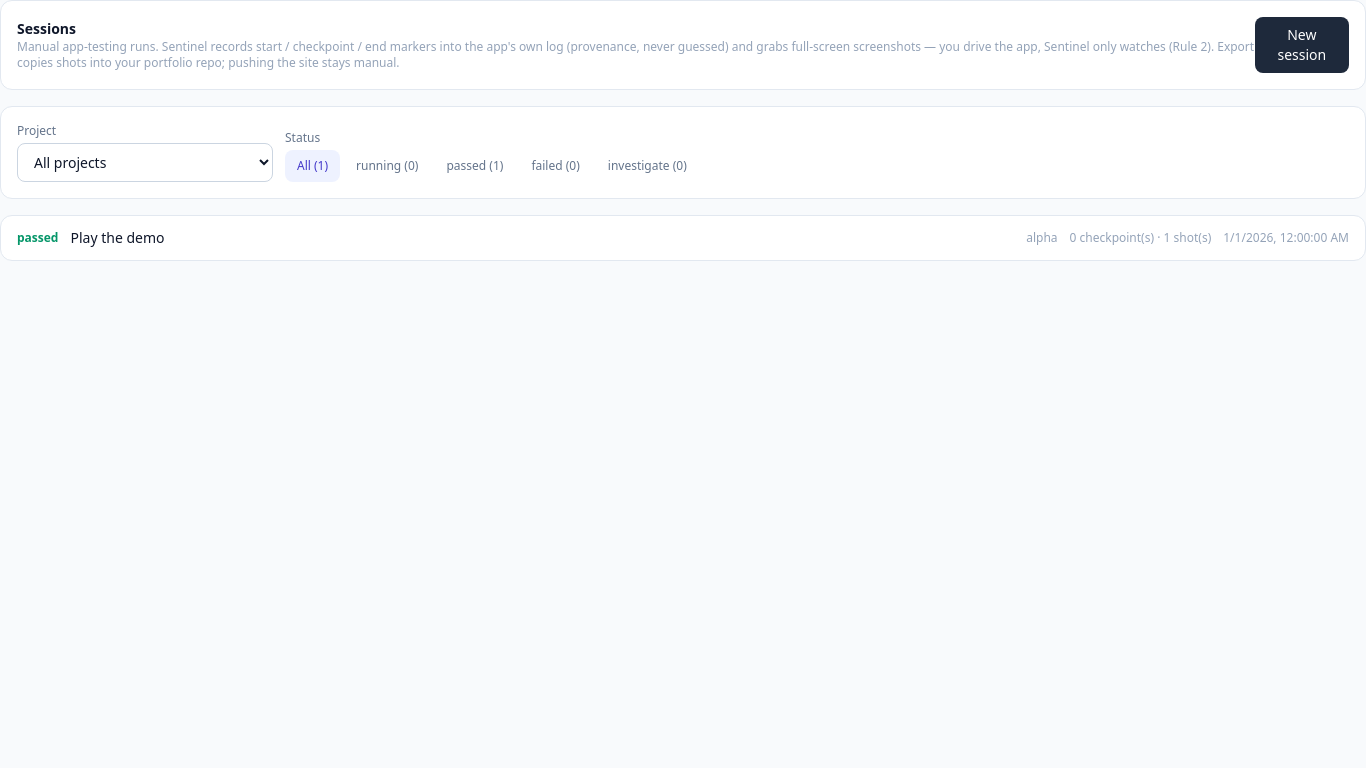
Test: Sessions › exports a screenshot and shows the card HTML
Click the text "Play the demo" at [118, 238], box [70, 228, 164, 247]
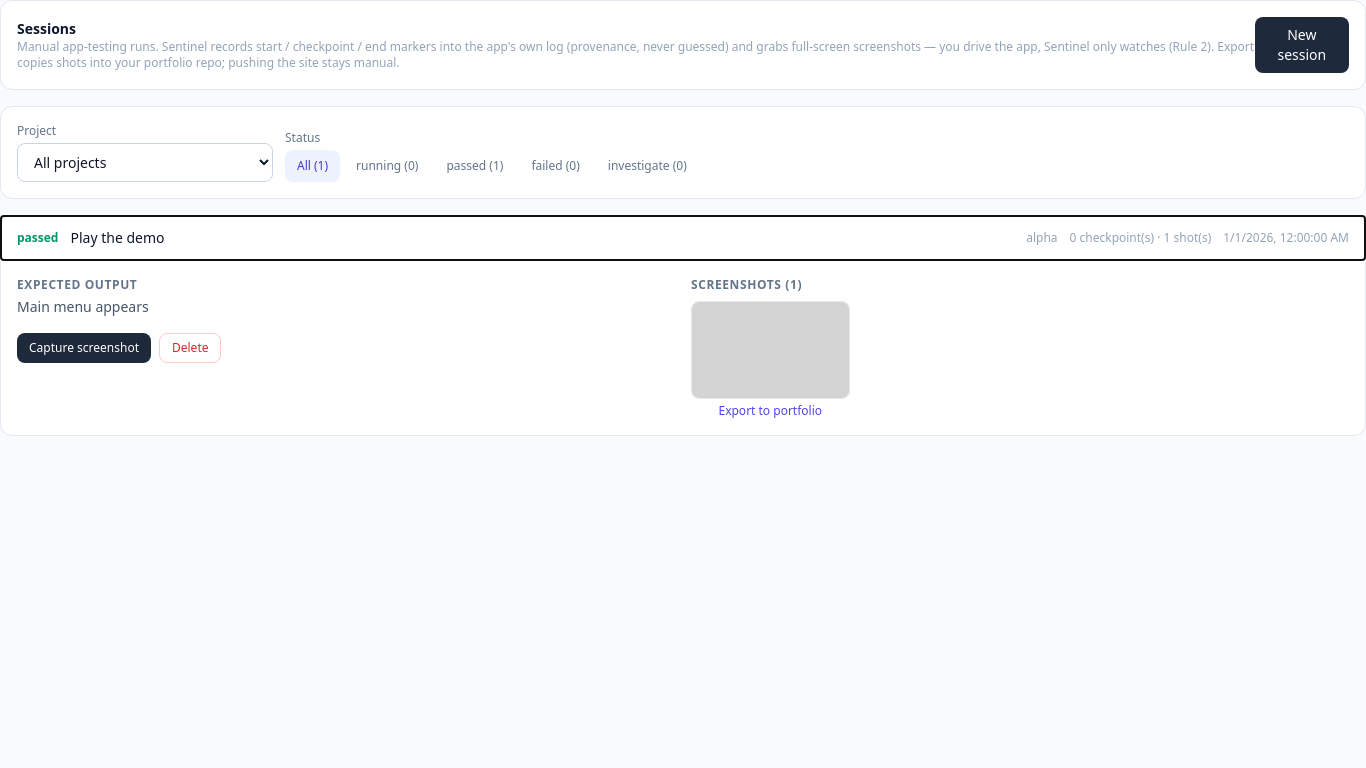
Click the button "Export to portfolio" at [770, 411], box [691, 403, 850, 419]
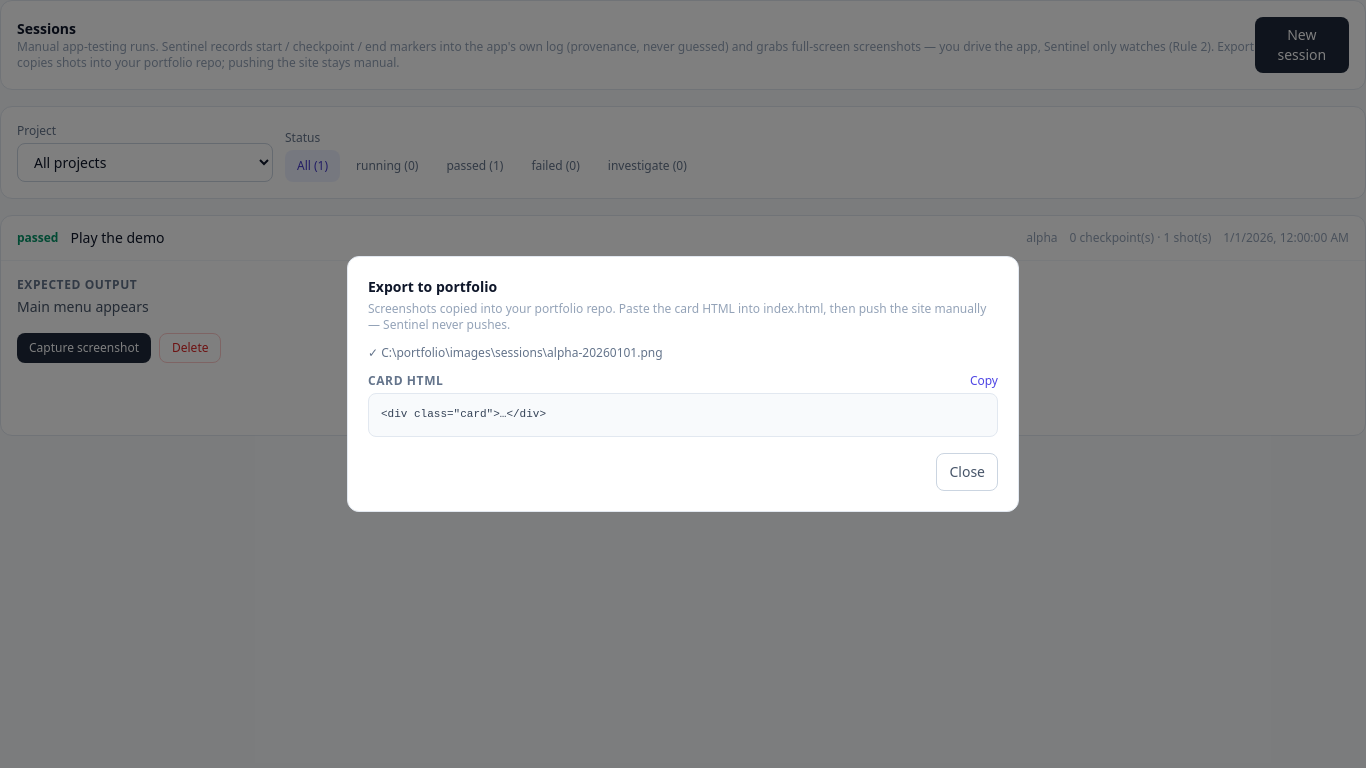
Check: the text "Paste the card HTML into index.html" is shown, box [368, 300, 986, 333]
Check: the text "<div class=\"card\">…</div>" is shown, box [368, 393, 998, 437]
